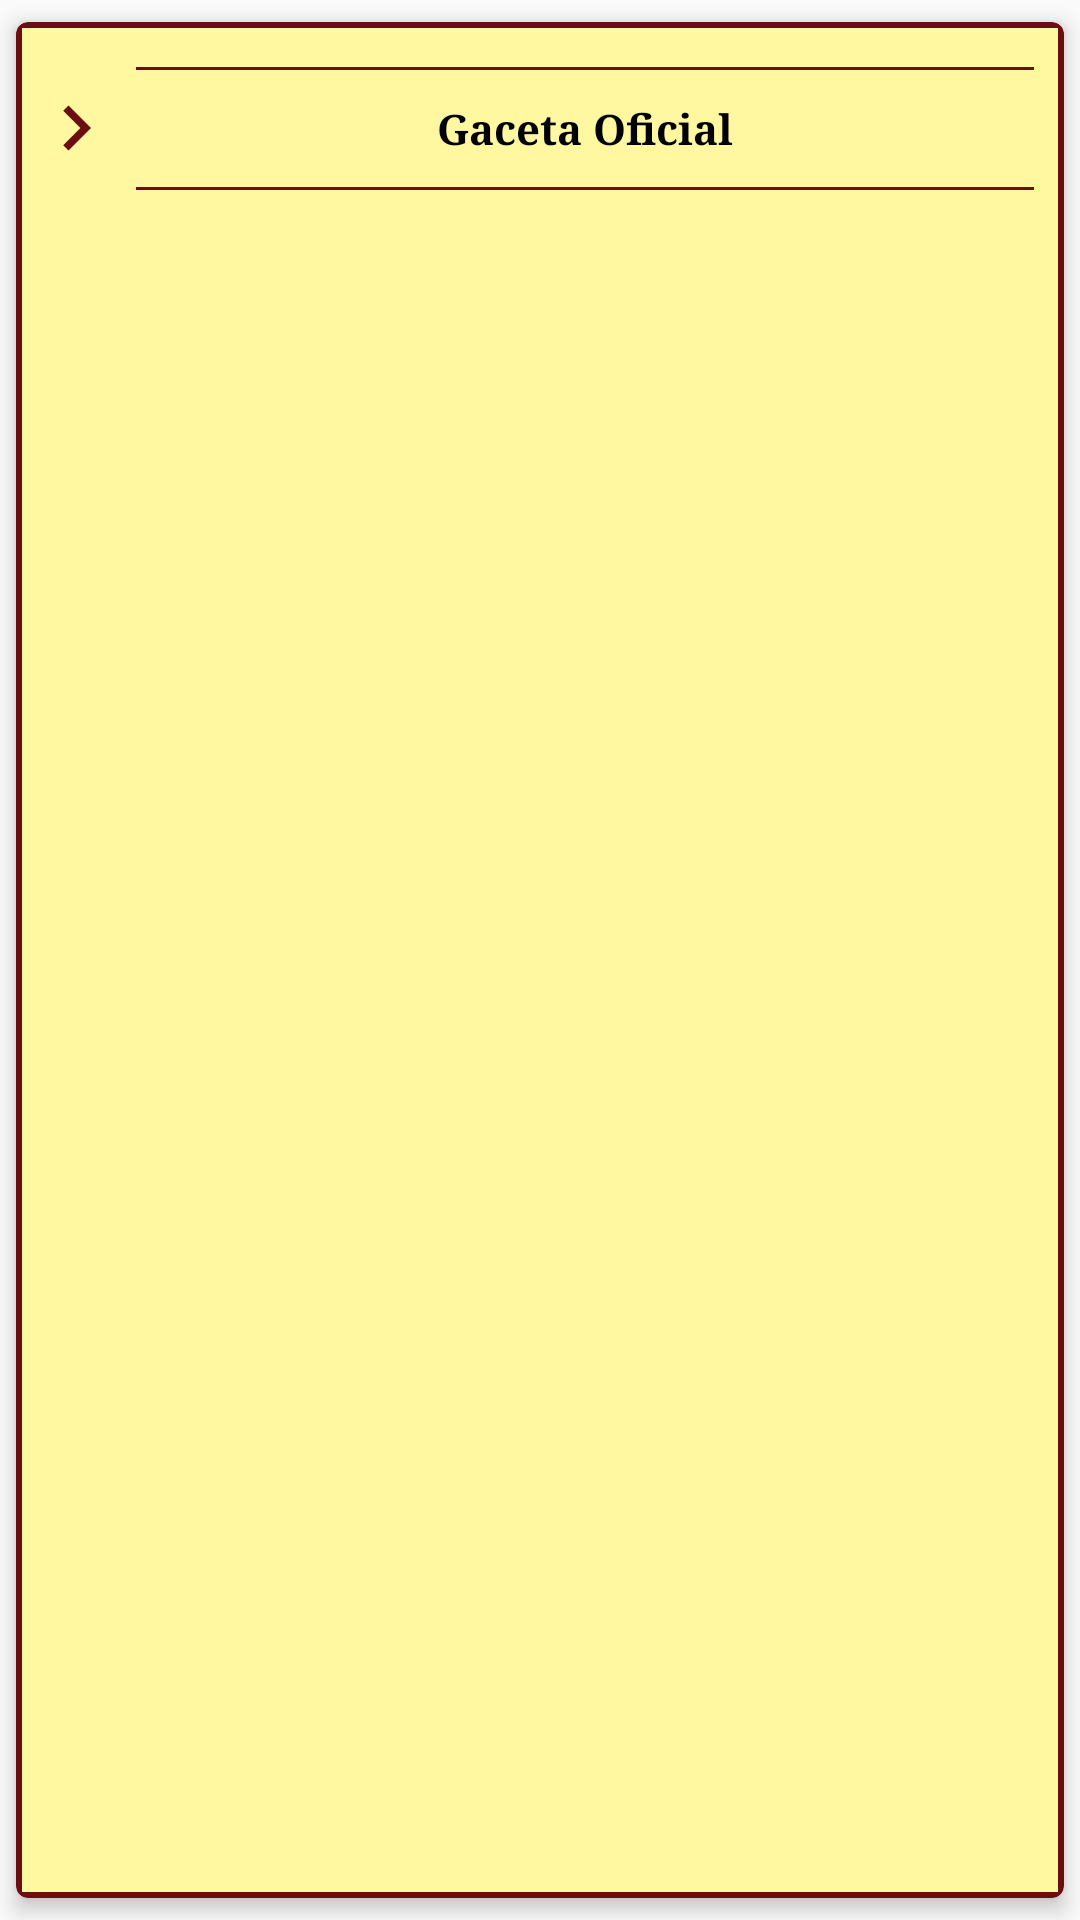

Icon click points for this 1080px x 1920px phone screenshot, format (x,y):
navigate next: (77,128)
